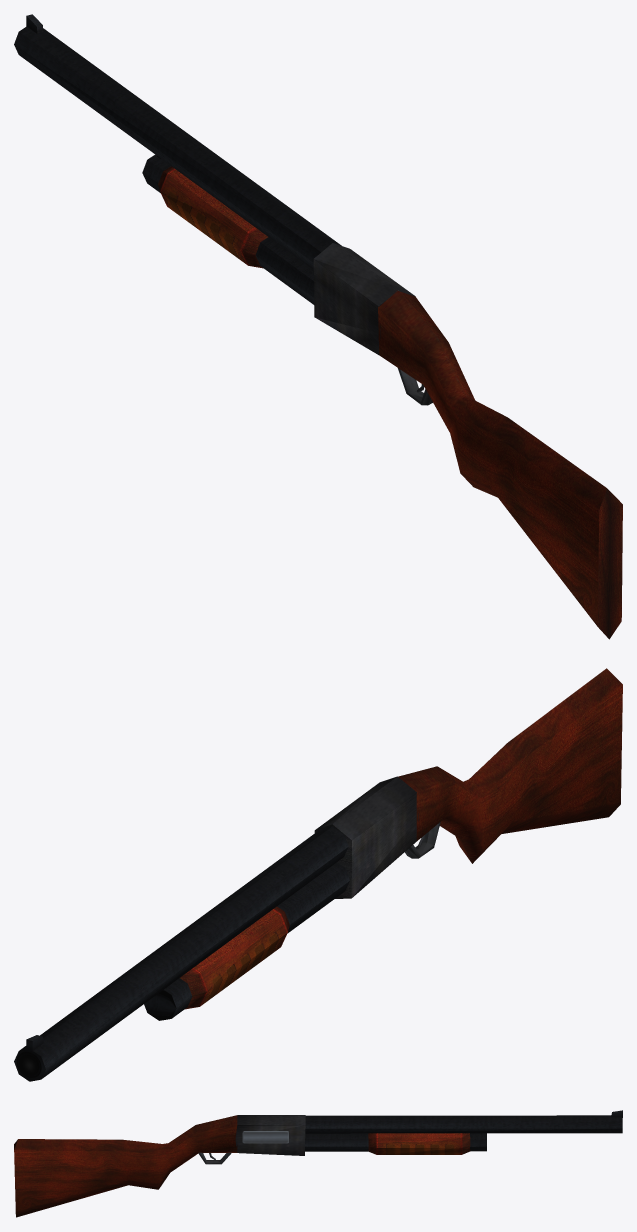
Rendered from old.shotgun.obj.
3 renders of one model, top to bottom at view 1: azimuth 30°, elevation 25°; view 2: azimuth 150°, elevation 25°; view 3: azimuth 270°, elevation 25°, orthographic. The views are drawn at different scales.
Visible parts, largest first — view 1: bud, barrals, action, cone; view 2: bud, barrals, action, cone, other; view 3: bud, barrals, action, cone, other.
Part boxes in pixels (x1,y1,x2,y2): bud: (378,290,622,639); barrals: (14,26,341,304); action: (313,243,415,354); cone: (158,166,267,268); bud: (397,668,622,863); barrals: (19,826,349,1079); action: (314,776,418,898); cone: (180,906,289,1009); other: (14,822,440,1081); bud: (14,1115,237,1217); barrals: (305,1115,622,1151); action: (235,1115,305,1155); cone: (368,1133,470,1154); other: (198,1110,622,1164).
Bounding box in the file's own units: 3.67 × 15.25 × 79.39.
Materials: 5 (5 with a texture image).
